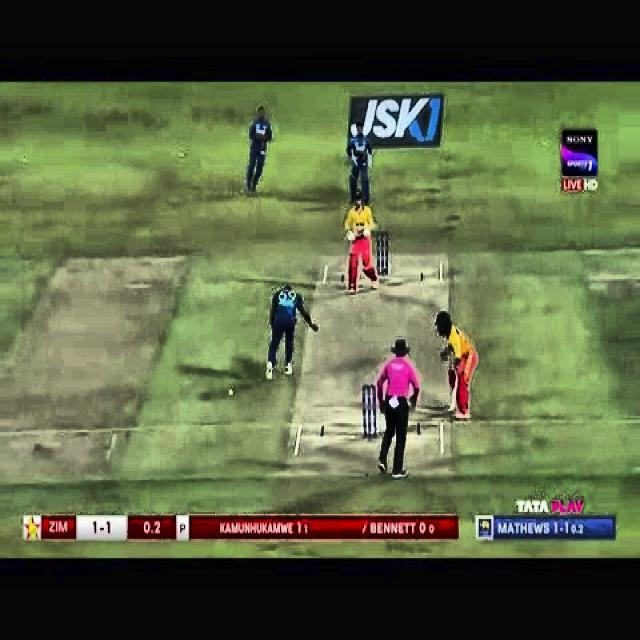Left-stump: (377, 235, 379, 275)
Middle-stump: (382, 236, 384, 275)
Right-stump: (386, 235, 388, 276)
